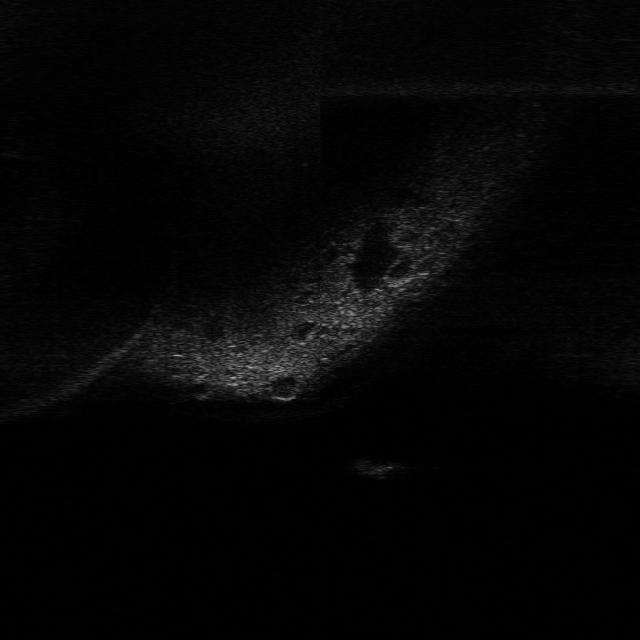cube: (348, 454, 406, 481)
